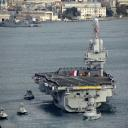Portanaves: (34, 8, 118, 114)
